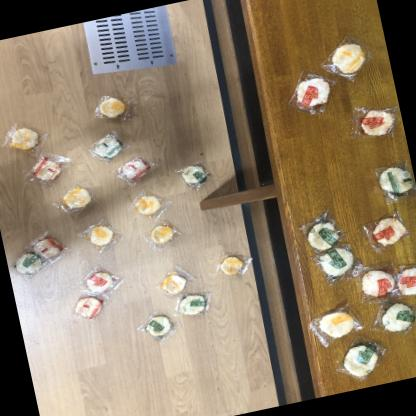green_setoshio: (330, 336, 388, 386), (296, 208, 350, 255), (369, 155, 416, 204), (312, 243, 364, 286), (371, 295, 416, 339), (172, 156, 218, 196), (136, 308, 183, 346), (84, 128, 128, 166), (172, 286, 218, 322), (8, 248, 47, 282)
red_setoshio: (280, 65, 342, 122), (358, 204, 416, 256), (346, 96, 405, 147), (352, 258, 400, 306), (21, 148, 72, 190), (78, 260, 130, 298), (114, 148, 159, 188), (68, 288, 112, 326), (34, 226, 72, 264), (388, 254, 416, 302)
yellow_setoshio: (314, 26, 380, 88), (304, 301, 368, 349), (78, 212, 127, 258), (0, 114, 51, 157), (52, 179, 102, 221), (136, 214, 186, 256), (89, 87, 138, 129), (148, 258, 197, 299), (126, 184, 176, 224), (211, 245, 254, 280)
